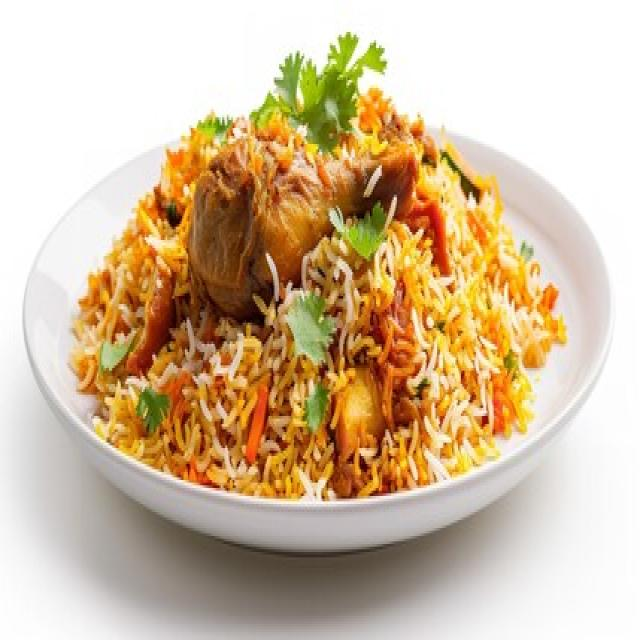BIRIYANI: (72, 88, 565, 499)
